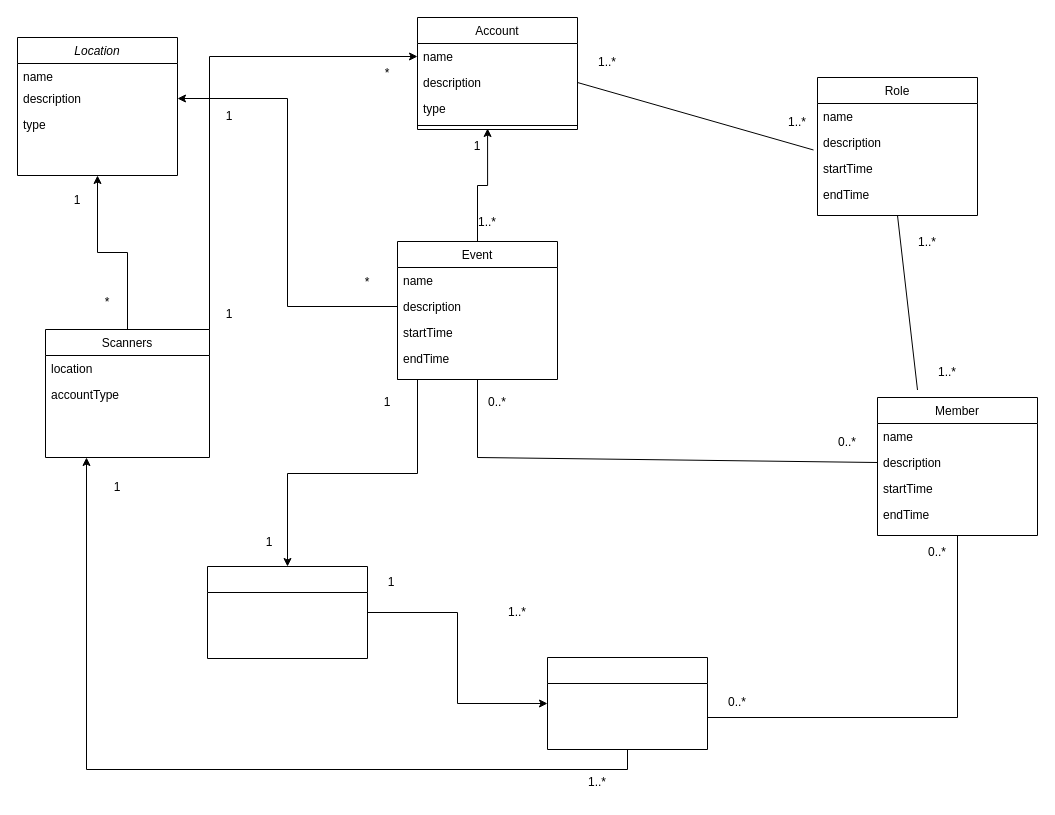
Some shapes in this 1055 by 815 pixel diagram are drawn without their labels. The shapes that lost their labels are listed below. From the top down, each one's centre as x and y in pixels, then its label:
At [287,612]: "Schedule".
At [627,703]: "Session".
